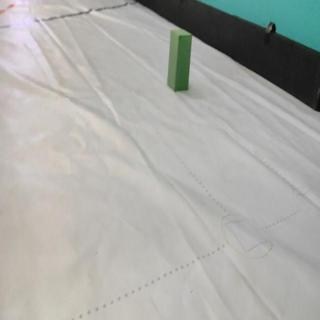greenbox: (169, 27, 192, 92)
